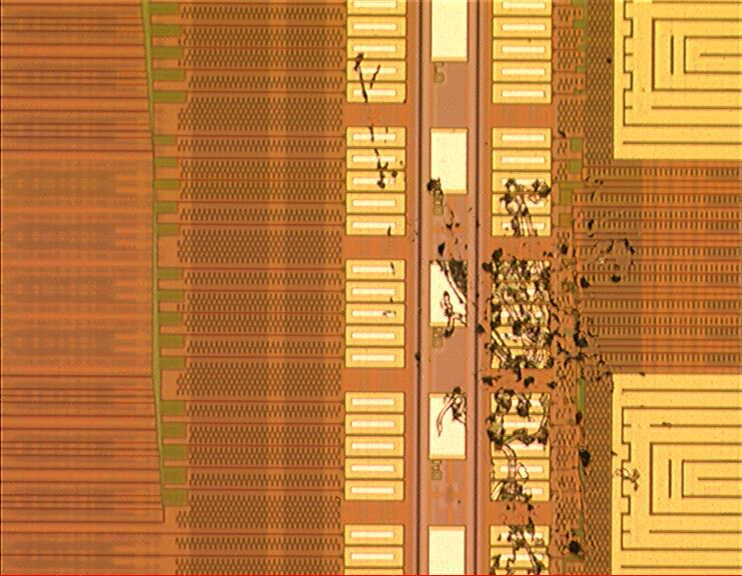PO CONTAMINATION: (348, 49, 676, 576)
